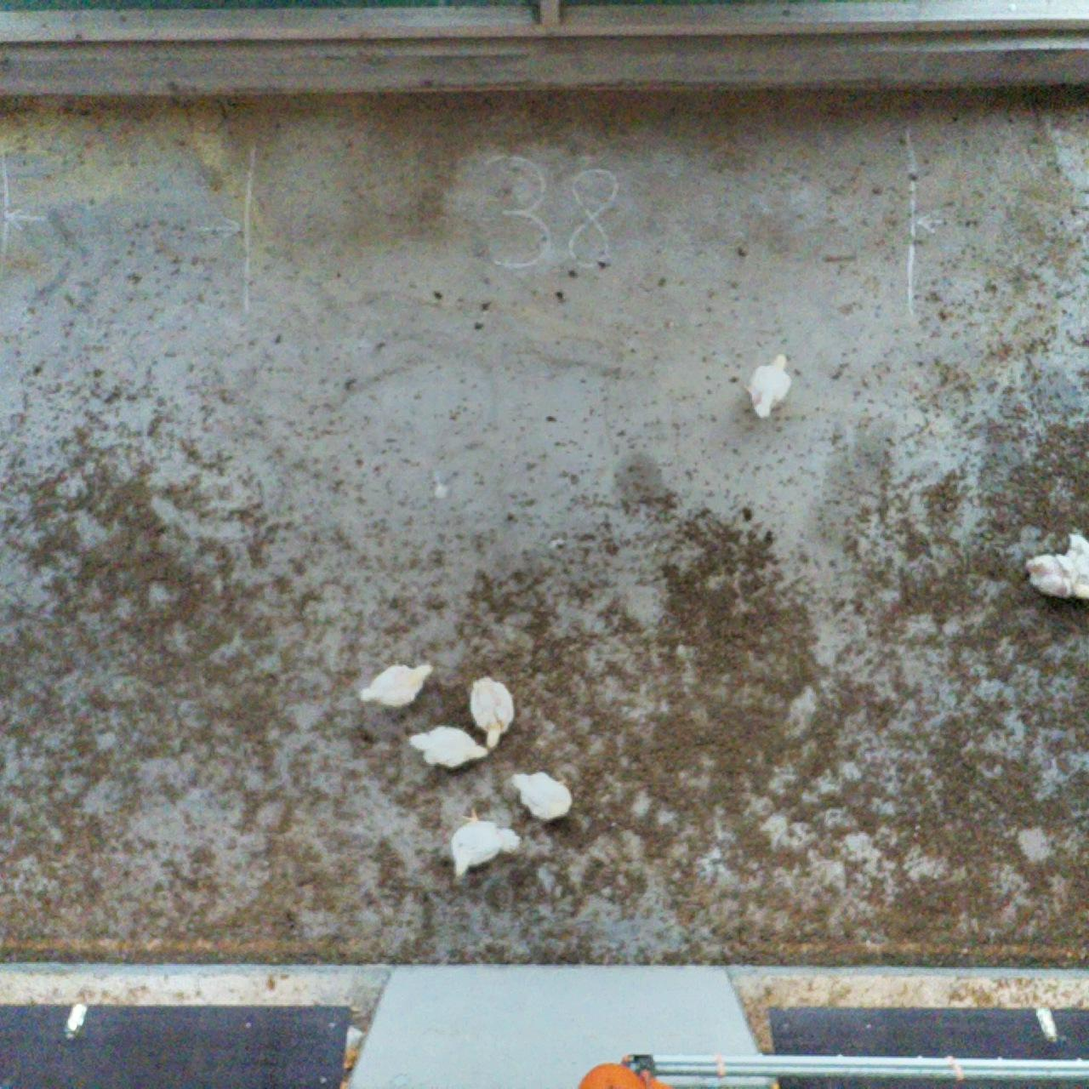chicken: (446, 806, 523, 880), (407, 718, 491, 779), (357, 656, 436, 713), (737, 350, 794, 423), (509, 766, 578, 824), (466, 673, 516, 753), (1019, 548, 1074, 601), (1063, 530, 1089, 602)
